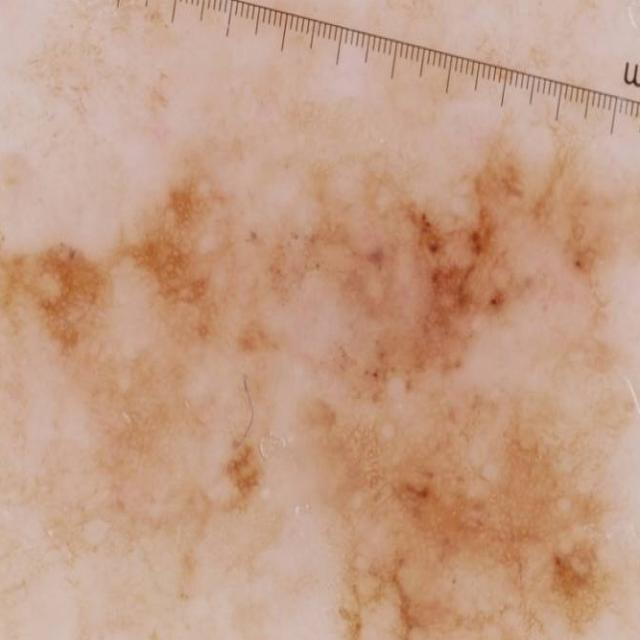Melanoma: (0, 76, 640, 640)
